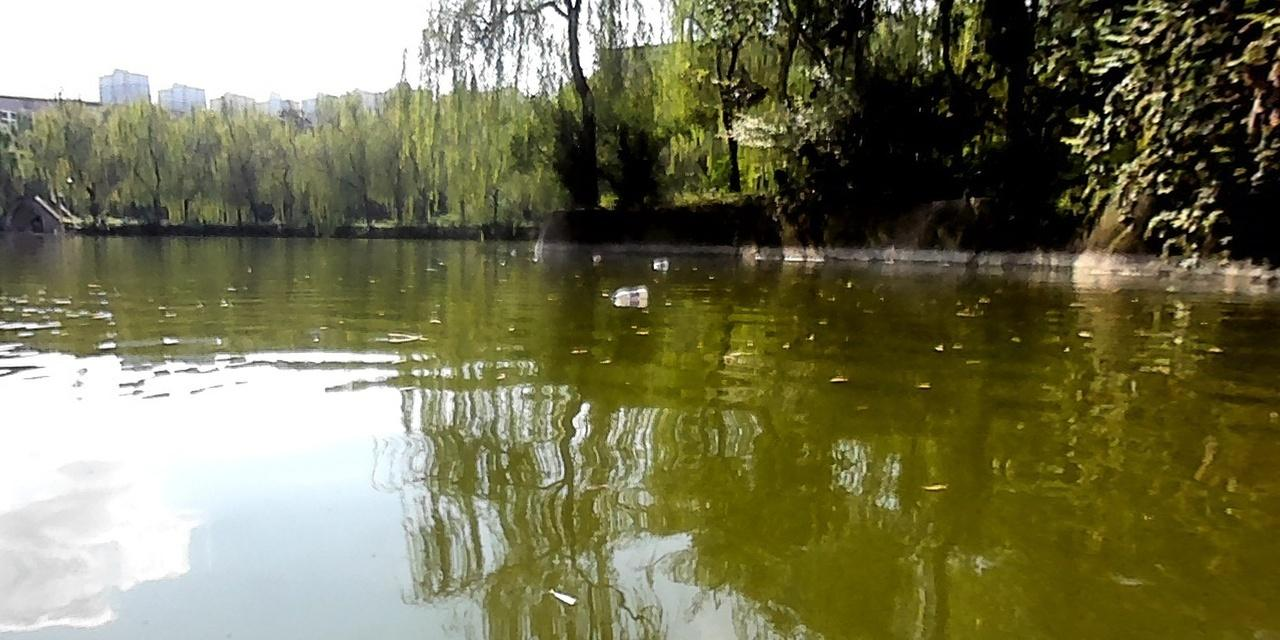bottle: (607, 281, 651, 310), (652, 260, 666, 268)
